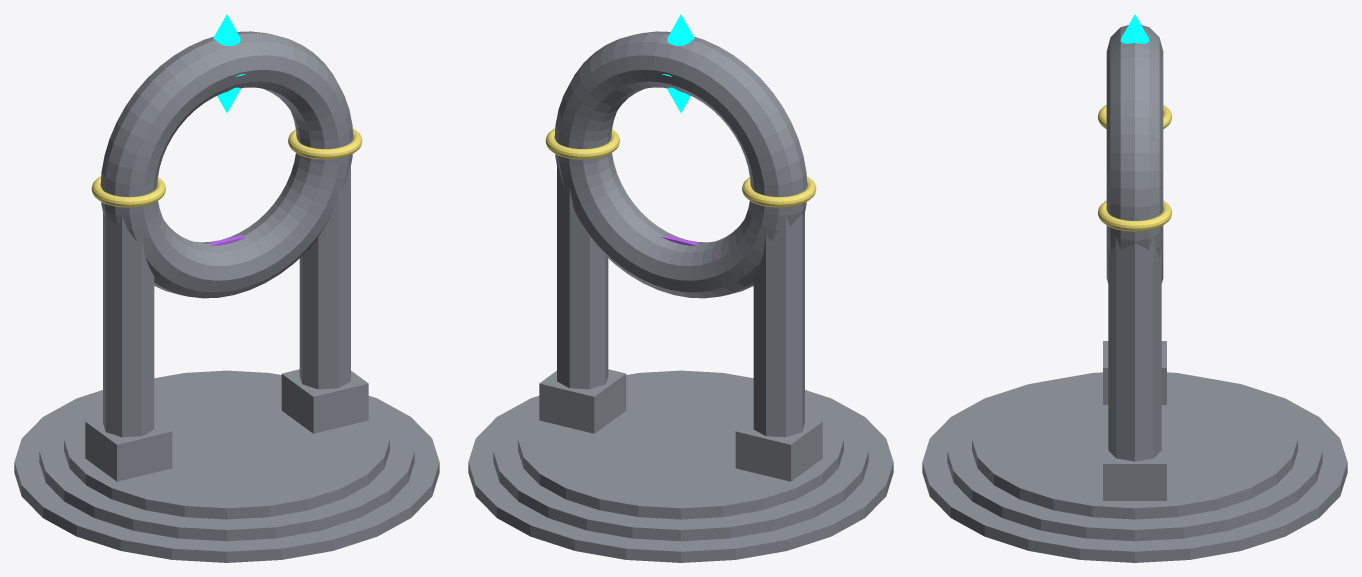
File: Portal_Dungeon_Spectacular.fbx
3 renders of one model, left to right at view 1: azimuth 30°, elevation 25°; view 2: azimuth 150°, elevation 25°; view 3: azimuth 270°, elevation 25°, orthographic.
Parts seen in each view (by area): view 1: Portal_Archway, Plinth_Step_3, Plinth_Step_1, Plinth_Step_2, Pillar_Col_Left, Pillar_Col_Right, Pillar_Base_Left, Pillar_Base_Right, Pillar_Collar_Left, Pillar_Collar_Right, Keystone_Top; view 2: Portal_Archway, Plinth_Step_3, Plinth_Step_1, Plinth_Step_2, Pillar_Col_Left, Pillar_Col_Right, Pillar_Base_Left, Pillar_Base_Right, Pillar_Collar_Left, Pillar_Collar_Right, Keystone_Top; view 3: Plinth_Step_3, Plinth_Step_1, Plinth_Step_2, Portal_Archway, Pillar_Col_Right, Pillar_Base_Right, Pillar_Collar_Right, Pillar_Base_Left.
Boxes of the visible parts, box(x1,y1,x2,y2) form: Portal_Archway: box(100, 31, 353, 298); Plinth_Step_3: box(64, 370, 389, 519); Plinth_Step_1: box(14, 390, 439, 562); Plinth_Step_2: box(39, 392, 414, 541); Pillar_Col_Left: box(103, 213, 154, 437); Pillar_Col_Right: box(299, 160, 350, 389); Pillar_Base_Left: box(85, 417, 172, 481); Pillar_Base_Right: box(281, 369, 368, 433); Pillar_Collar_Left: box(91, 176, 165, 207); Pillar_Collar_Right: box(288, 128, 362, 159); Keystone_Top: box(213, 14, 245, 76); Portal_Archway: box(554, 31, 807, 298); Plinth_Step_3: box(518, 370, 843, 519); Plinth_Step_1: box(468, 390, 893, 562); Plinth_Step_2: box(493, 392, 868, 541); Pillar_Col_Left: box(753, 213, 804, 437); Pillar_Col_Right: box(557, 160, 608, 389); Pillar_Base_Left: box(735, 417, 822, 481); Pillar_Base_Right: box(539, 369, 626, 433); Pillar_Collar_Left: box(742, 176, 816, 207); Pillar_Collar_Right: box(545, 128, 619, 159); Keystone_Top: box(662, 14, 694, 76); Plinth_Step_3: box(972, 372, 1297, 519); Plinth_Step_1: box(922, 382, 1347, 562); Plinth_Step_2: box(947, 380, 1322, 541); Portal_Archway: box(1106, 25, 1163, 283); Pillar_Col_Right: box(1108, 237, 1161, 461); Pillar_Base_Right: box(1103, 437, 1166, 500); Pillar_Collar_Right: box(1098, 200, 1171, 231); Pillar_Base_Left: box(1103, 341, 1166, 404).
Size of the model in its own units: 1200 by 1430 by 1200.
